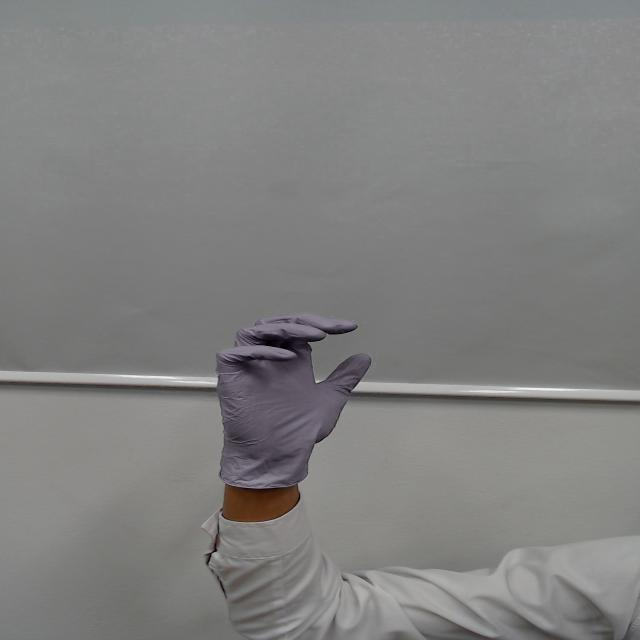glove: (151, 308, 393, 470)
